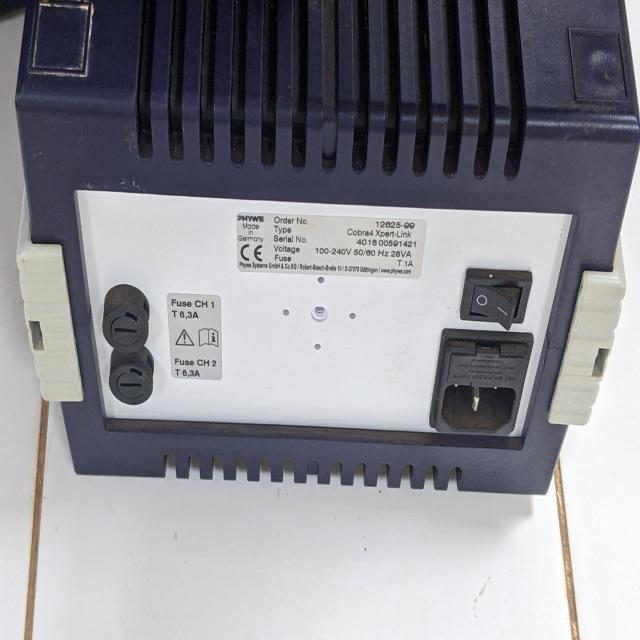Power Supply of Speed of Light Demo: (18, 53, 630, 506)
